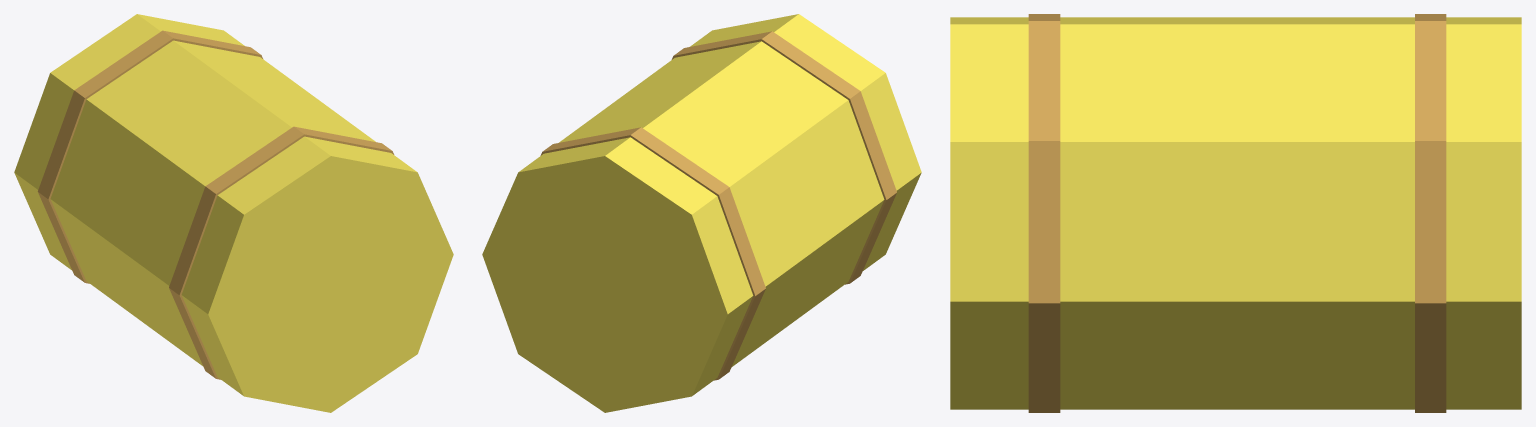
File: a stack of hay1.fbx
The picture shows the model from 3 angles, left to right: view 1: azimuth 30°, elevation 25°; view 2: azimuth 150°, elevation 25°; view 3: azimuth 270°, elevation 25°; orthographic projection. The views are drawn at different scales.
Visible parts, largest first — view 1: Cylinder_3; view 2: Cylinder_3; view 3: Cylinder_3.
Boxes of the visible parts, box(x1,y1,x2,y2) form: Cylinder_3: box(14, 14, 453, 412); Cylinder_3: box(482, 14, 921, 412); Cylinder_3: box(950, 14, 1521, 412).
Bounding box in the file's own units: 149 × 149 × 200.
